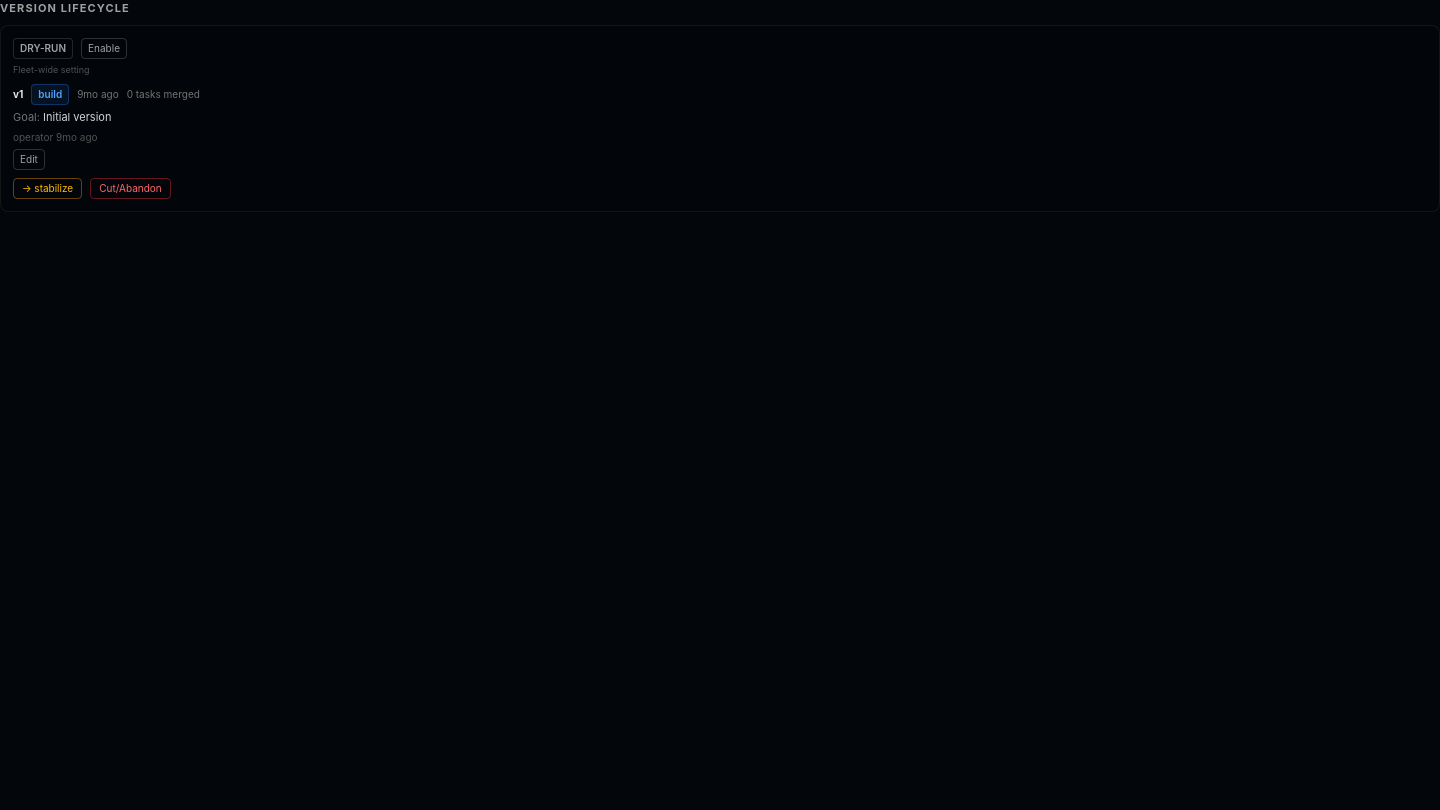
Scenario: VersionLifecyclePanel › promotion enabled toggle › confirms before enabling live promotion and updates the badge immediately
Click the button "Enable" at [104, 48], box [81,38,127,58]
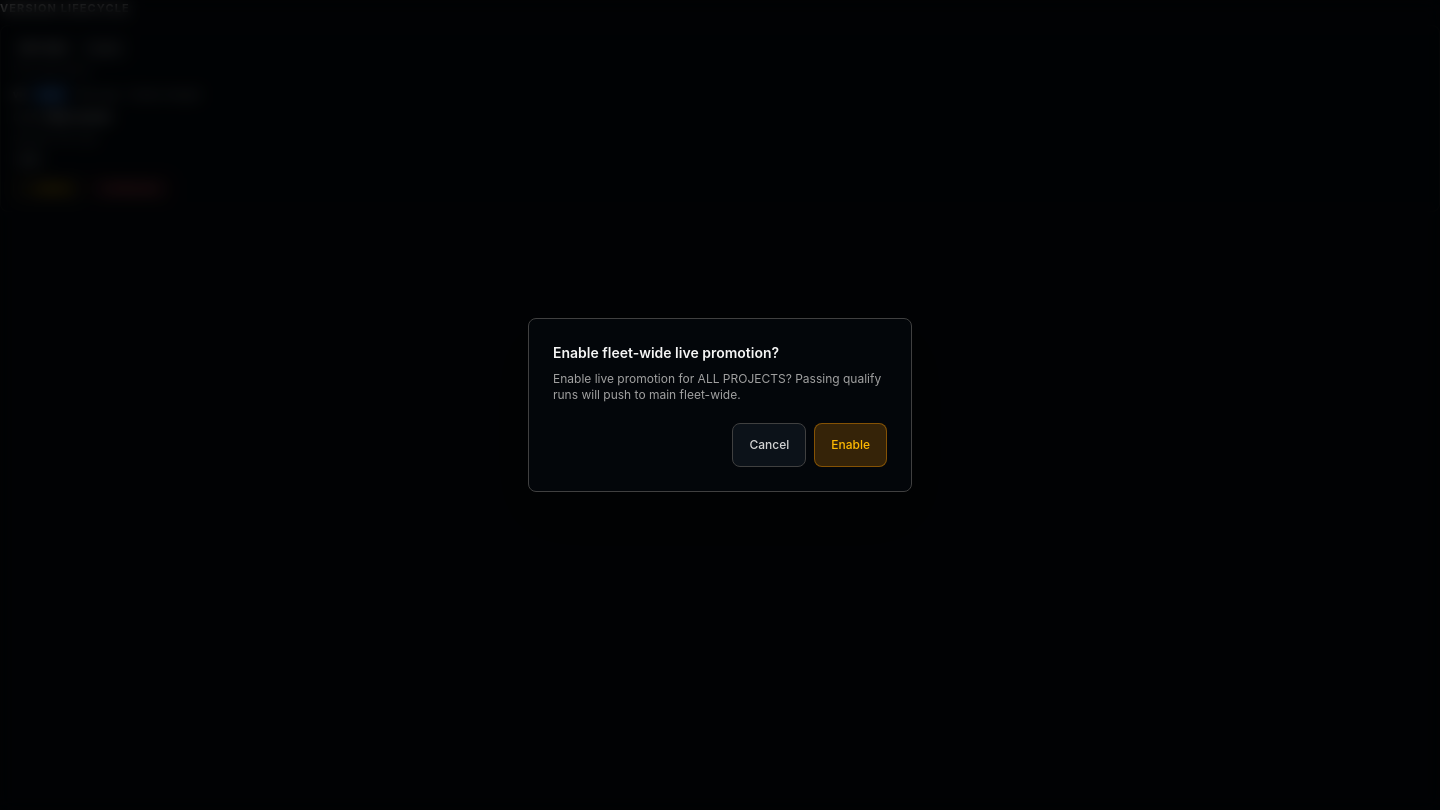
Expected: the text "Enable live promotion for ALL PROJECTS? Passing qualify runs will push to main fleet-wide." is shown, [553,371,881,402]
Click the button with test id "confirm-dialog-confirm" at [851, 445], box [814,423,887,467]
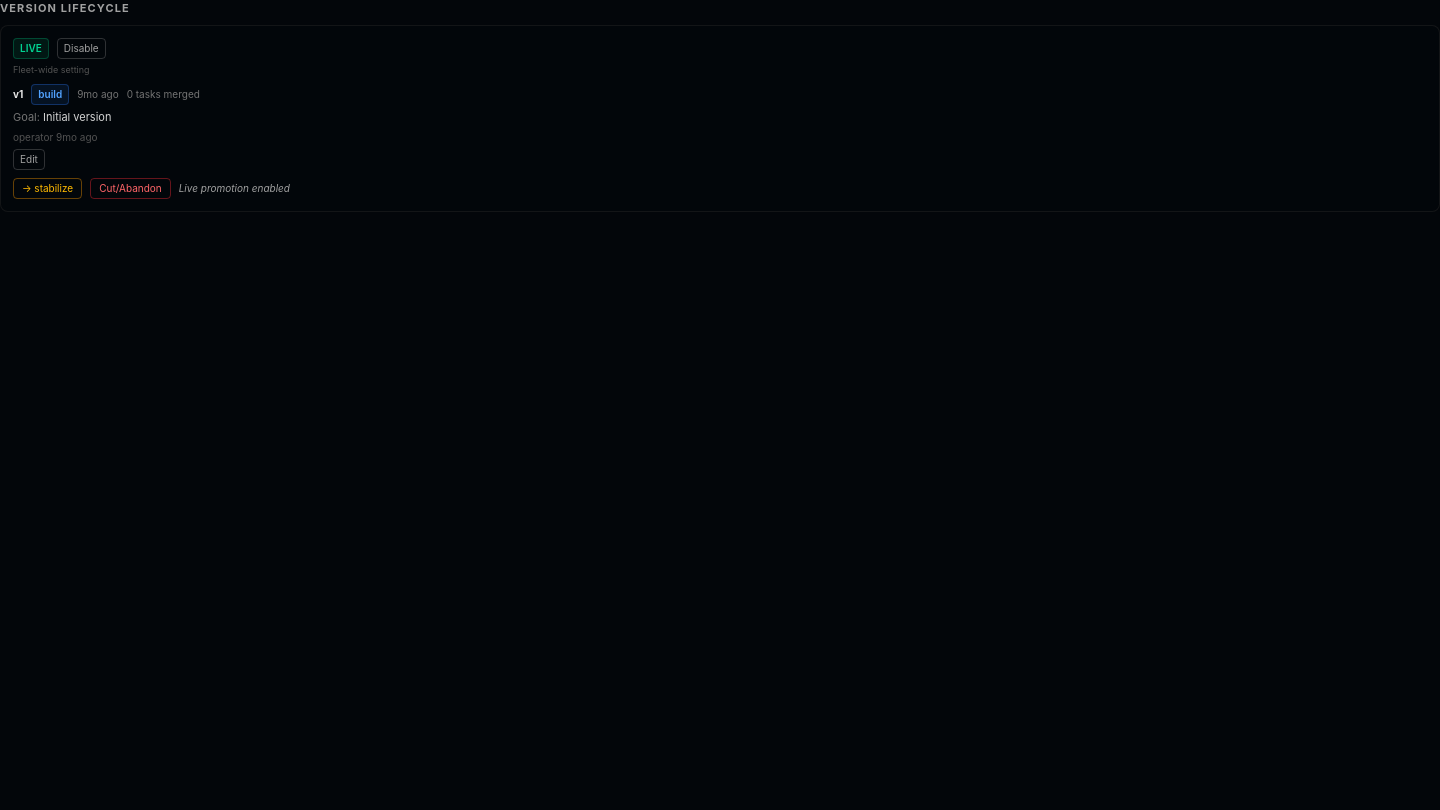
Expected: the text "LIVE" is shown, [13,38,49,58]
